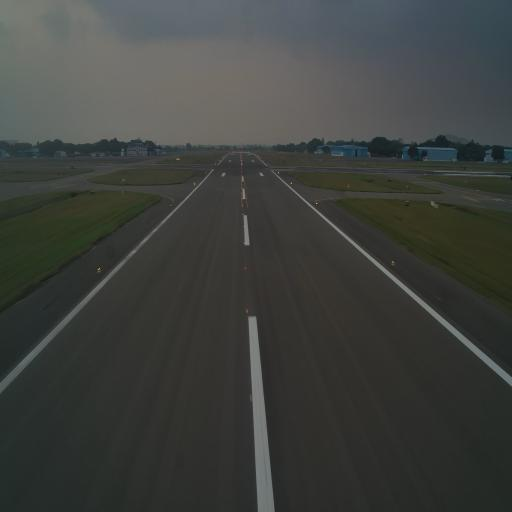on: (249, 390, 254, 406), (390, 258, 396, 268), (96, 264, 102, 273), (242, 265, 247, 274), (245, 306, 249, 316), (243, 239, 246, 246)
